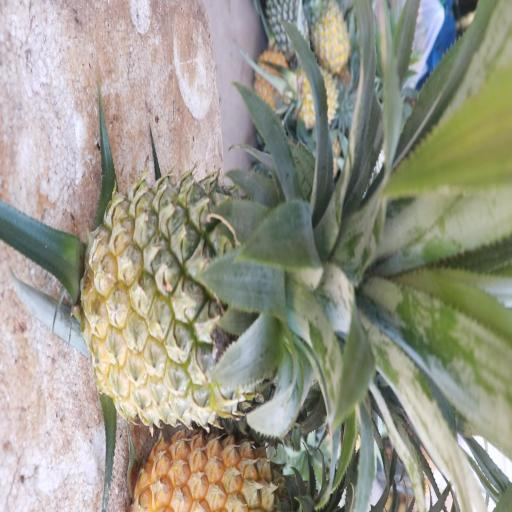------------------------------: (82, 184, 330, 428)
Pineapple - v8 v1: (308, 0, 353, 71)
